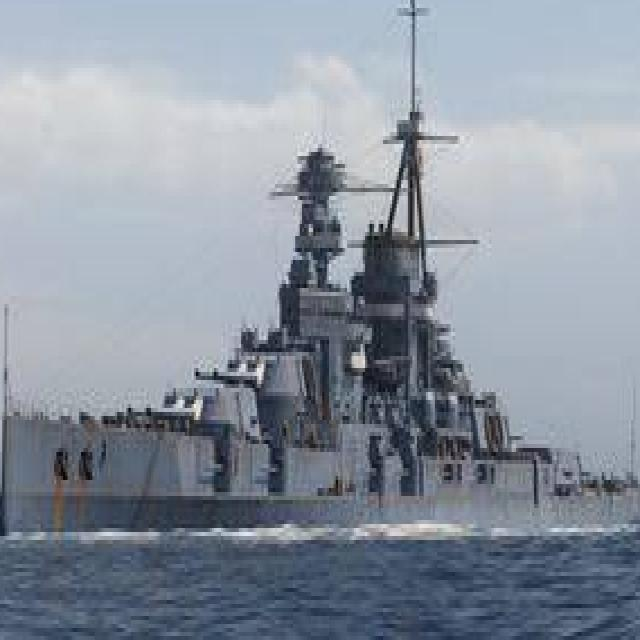navalvessels: (0, 0, 638, 540)
